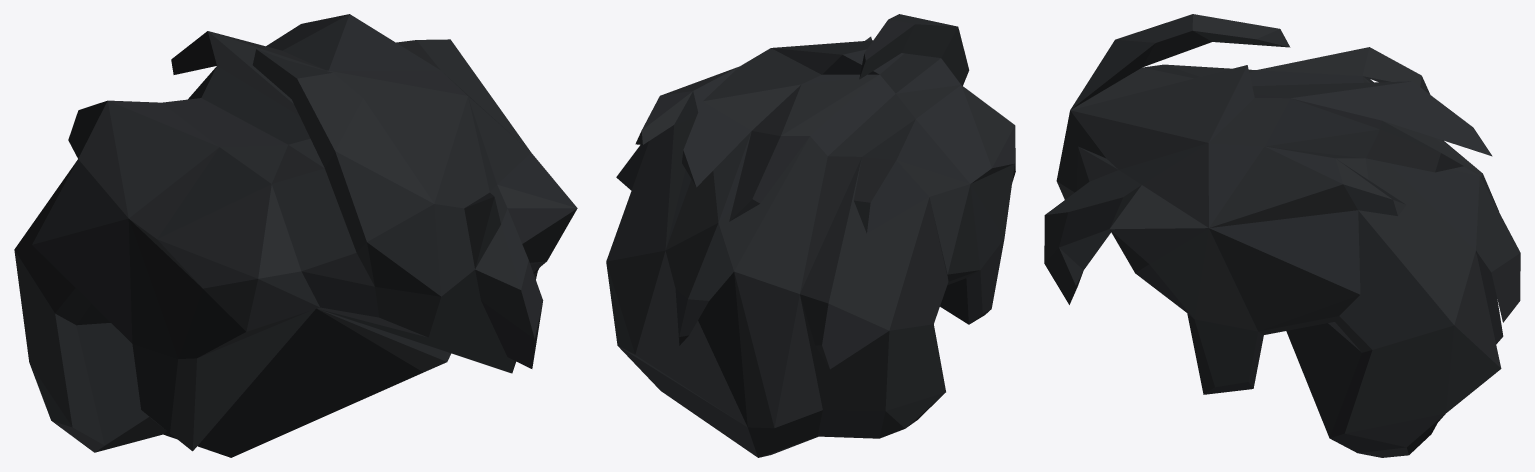
The model's file is SM_Chr_Attach_Hair_03.fbx.
The picture shows the model from 3 angles, left to right: view 1: azimuth 30°, elevation 25°; view 2: azimuth 150°, elevation 25°; view 3: azimuth 270°, elevation 25°; orthographic projection. The views are drawn at different scales.
Visible parts, largest first — view 1: SM_Chr_Attach_Hair_03; view 2: SM_Chr_Attach_Hair_03; view 3: SM_Chr_Attach_Hair_03.
Part boxes in pixels (x1,y1,x2,y2): SM_Chr_Attach_Hair_03: [14, 14, 577, 457]; SM_Chr_Attach_Hair_03: [606, 14, 1015, 457]; SM_Chr_Attach_Hair_03: [1044, 14, 1520, 457].
Size of the model in its own units: 28.28 by 29.59 by 31.75.
